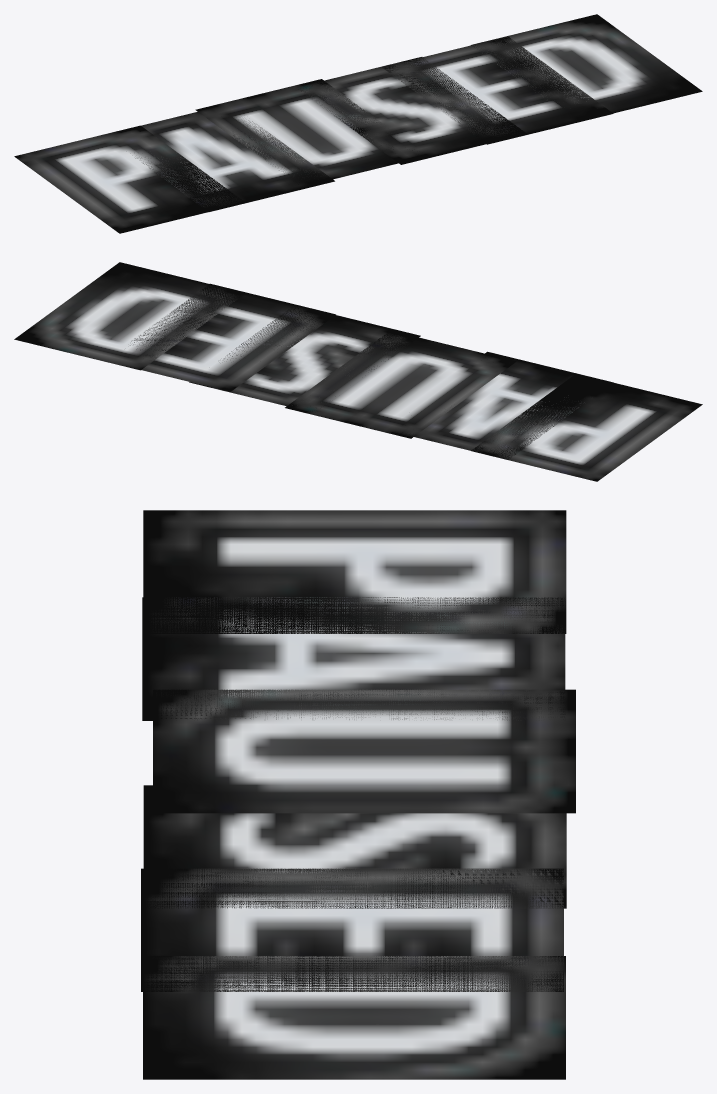
File: Paused.FBX
The picture shows the model from 3 angles, top to bottom: view 1: azimuth 30°, elevation 25°; view 2: azimuth 150°, elevation 25°; view 3: azimuth 270°, elevation 25°; orthographic projection. The views are drawn at different scales.
Visible parts, largest first — view 1: Paused; view 2: Paused; view 3: Paused.
Boxes of the visible parts, x1=… form: Paused: x1=14, y1=14, x2=702, y2=233; Paused: x1=14, y1=262, x2=702, y2=481; Paused: x1=141, y1=510, x2=575, y2=1079.
Size of the model in its own units: 84.62 by 27.33 by 0.
